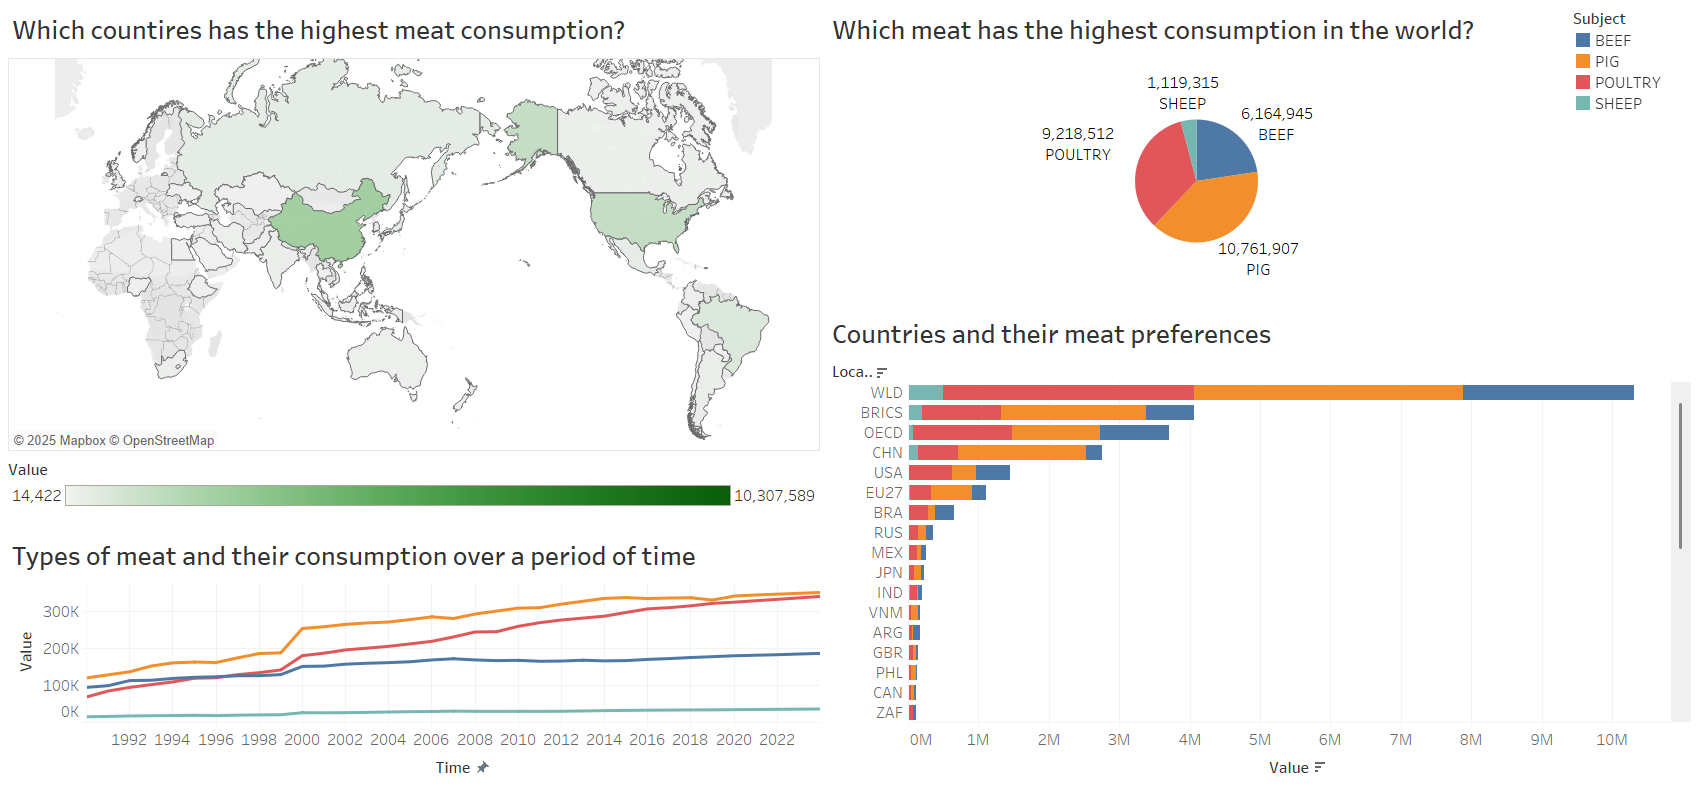

Layout of this report page (visuals, bound fields, positions):
{"tool":"tableau","page":{"name":"Dashboard 1","canvas":[1000,1000],"units":"permille","ordinal":0},"visuals":[{"type":"worksheet","title":"Sheet 5","mark":"Automatic","box":[4.8,10,480.4,563]},{"type":"worksheet","title":"Sheet 4","mark":"Pie","box":[485.2,10,436.3,489.4]},{"type":"legend","title":"Sheet 4","param":"[federated.08mtj5v0opecii14mosb90dkkxj8].[none:SUBJECT:nk]","box":[921.5,10,73.6,489.4]},{"type":"worksheet","title":"Sheet 3","mark":"Automatic","rows":["LOCATION"],"cols":["Value"],"box":[485.2,499.4,510,490.6]},{"type":"legend","title":"Sheet 5","param":"[federated.08mtj5v0opecii14mosb90dkkxj8].[sum:Value:qk]","box":[4.8,573,480.4,93.6]},{"type":"worksheet","title":"Sheet 2","mark":"Automatic","rows":["Value"],"cols":["TIME"],"box":[4.8,666.7,480.4,323.3]}]}

Visuals, with their boxes on the dashboard's canvas, which has no fixed pixel size, in thousandths of its width and height (x1, y1, x2, y2). These are canvas units, not pixel positions in the 1702x797 screenshot, which may show the page scaled, cropped or inside an application window:
"Sheet 5" worksheet: crop(5, 10, 485, 573)
"Sheet 4" worksheet (Pie marks): crop(485, 10, 922, 499)
"Sheet 4" legend: crop(922, 10, 995, 499)
"Sheet 3" worksheet: crop(485, 499, 995, 990)
"Sheet 5" legend: crop(5, 573, 485, 667)
"Sheet 2" worksheet: crop(5, 667, 485, 990)
